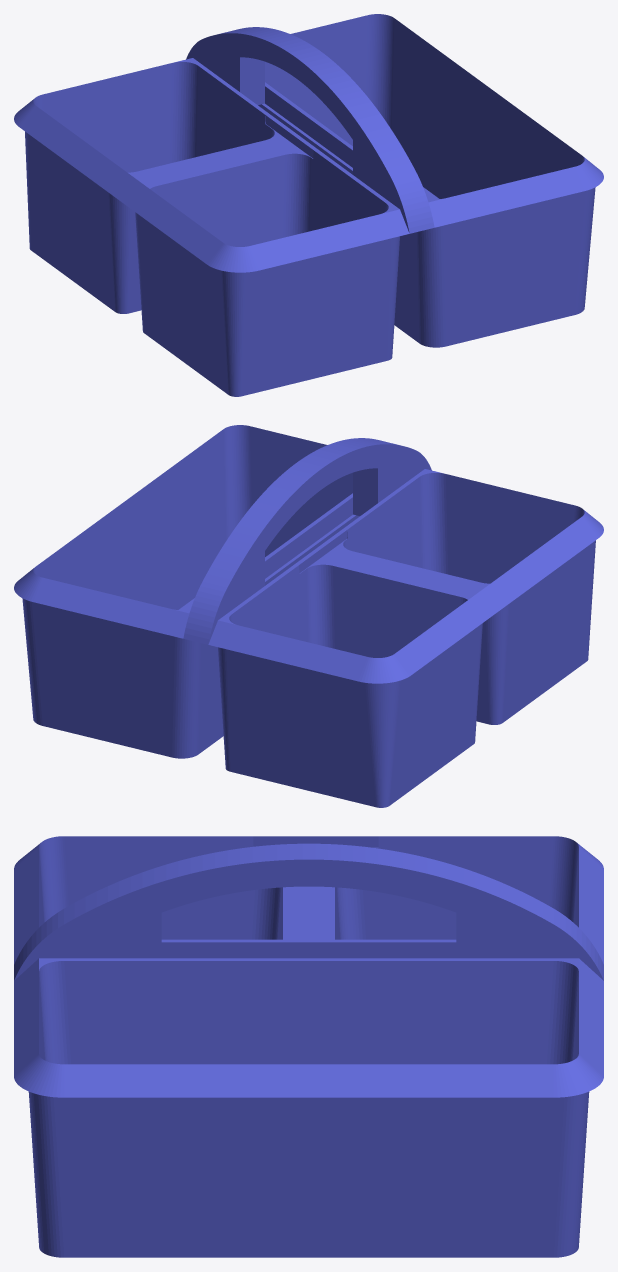
The model's file is Romanoff_Small_Utility_Caddy_cof_blue.dae.
3 views of the same model, one above another, from view 1: azimuth 30°, elevation 25°; view 2: azimuth 150°, elevation 25°; view 3: azimuth 270°, elevation 25° (orthographic). The views are drawn at different scales.
Visible parts, largest first — view 1: _c62c69ebbda3019535ef0d7; view 2: _c62c69ebbda3019535ef0d7; view 3: _c62c69ebbda3019535ef0d7.
Part boxes in pixels (left/top/right/bottom): _c62c69ebbda3019535ef0d7: left=14, top=14, right=603, bottom=396; _c62c69ebbda3019535ef0d7: left=14, top=425, right=603, bottom=807; _c62c69ebbda3019535ef0d7: left=14, top=836, right=603, bottom=1257.
Size of the model in its own units: 0.235 by 0.235 by 0.1283.
